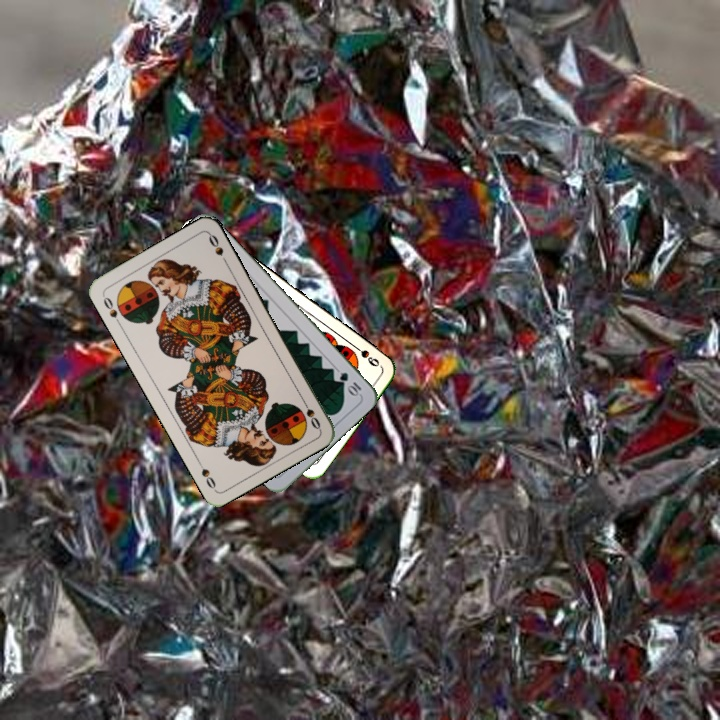G10: (335, 368, 364, 399)
S9: (346, 340, 382, 369)
SO: (298, 394, 323, 432), (99, 291, 124, 328)
